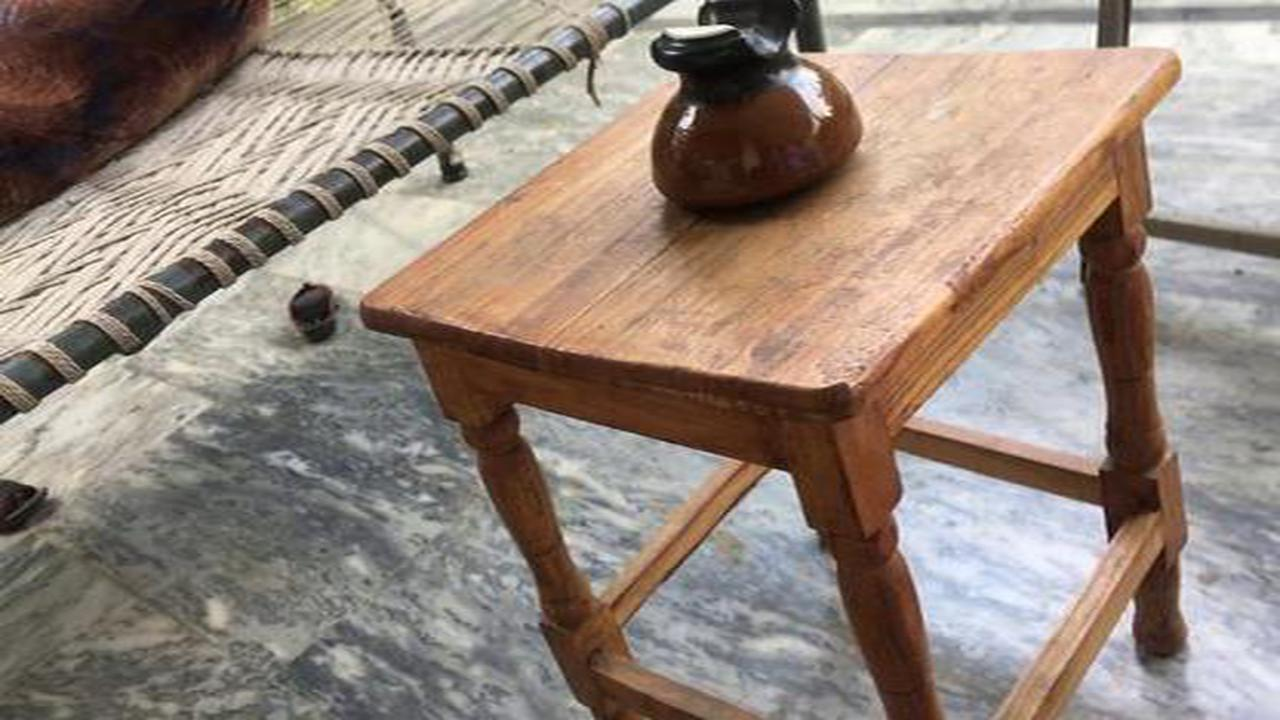insulator_pin: (628, 11, 877, 232)
